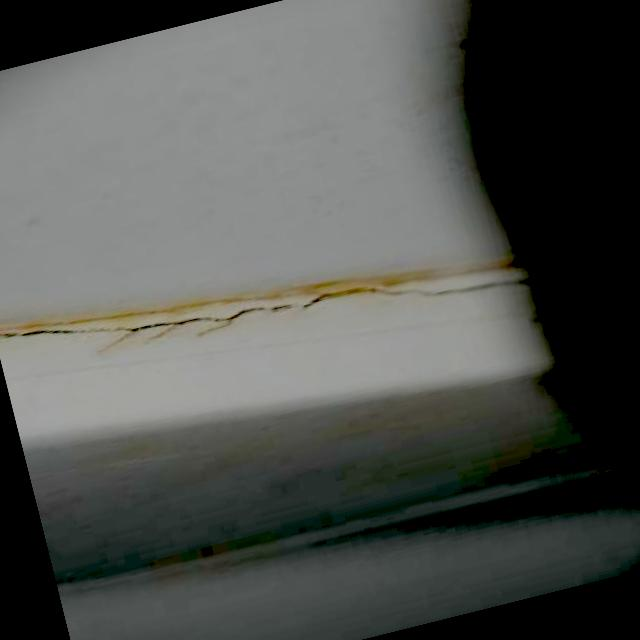crack: (0, 302, 126, 360), (414, 261, 534, 312), (305, 274, 409, 316), (134, 304, 228, 342), (230, 292, 304, 325)
